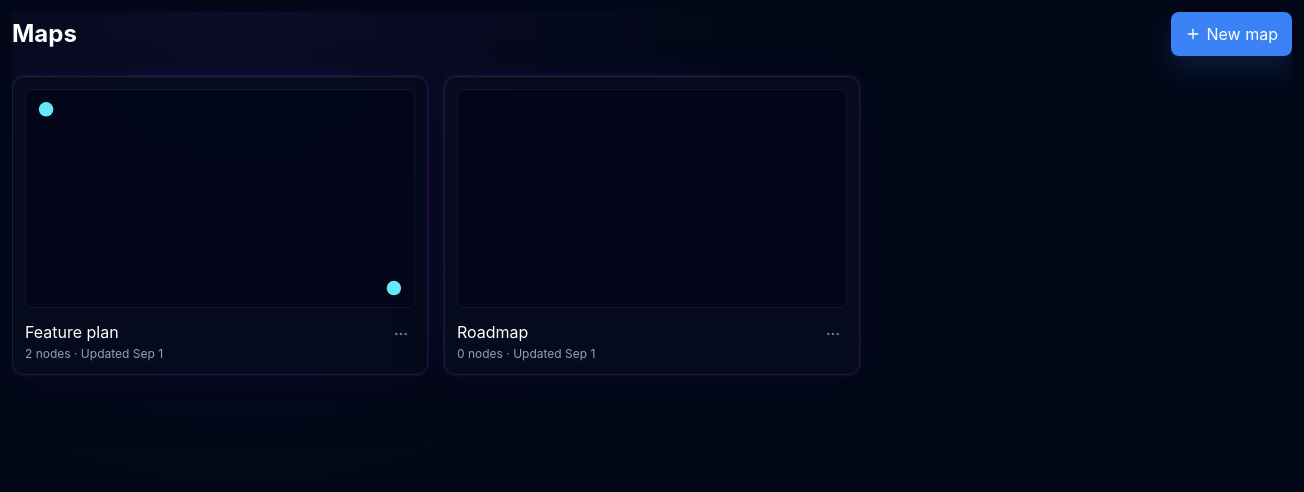
Test: MapLibraryPage › archives a map and removes its card
The image size is (1304, 492).
Expected: the button "Feature plan" is shown, [25,320,119,344]
Click the button named "Map actions for Feature plan": x=401, y=334 [387,320,415,348]
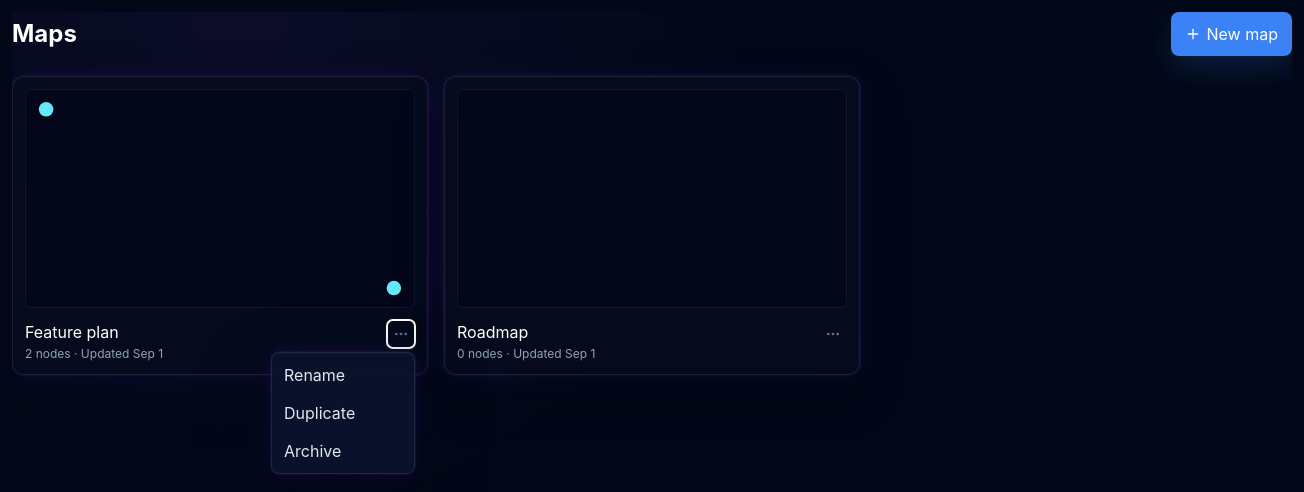
Click the menu item "Archive": x=343, y=451 [276,433,410,469]
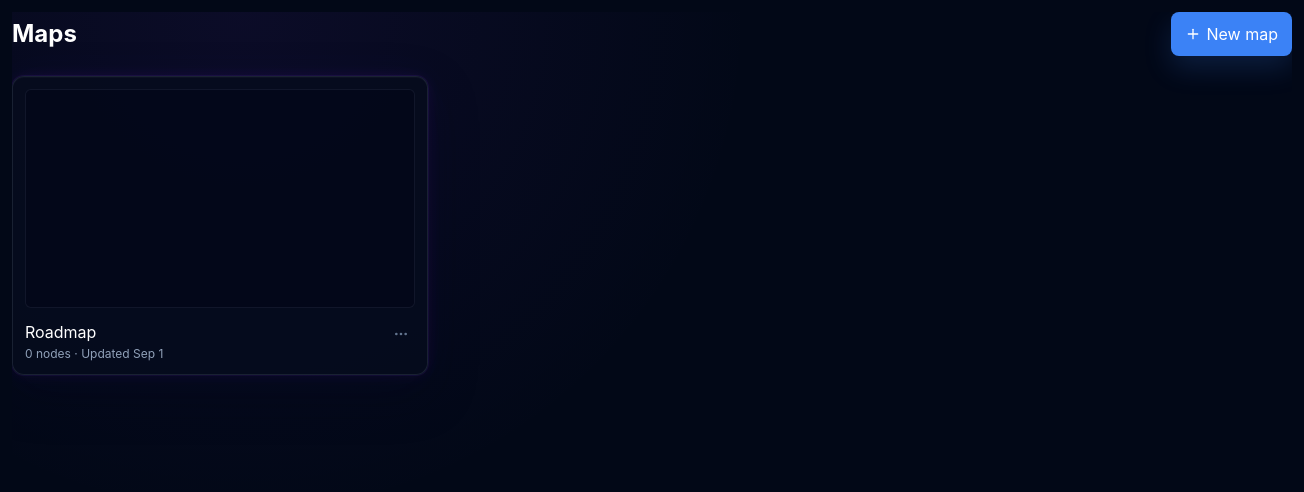
Now the button "Feature plan" is gone
